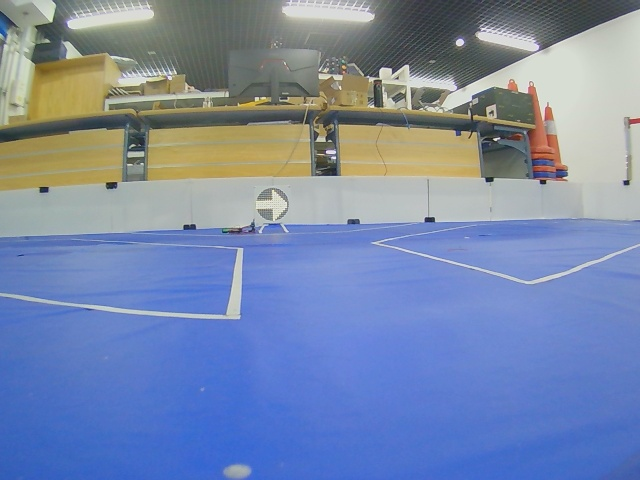right_yellow: (256, 187, 289, 222)
